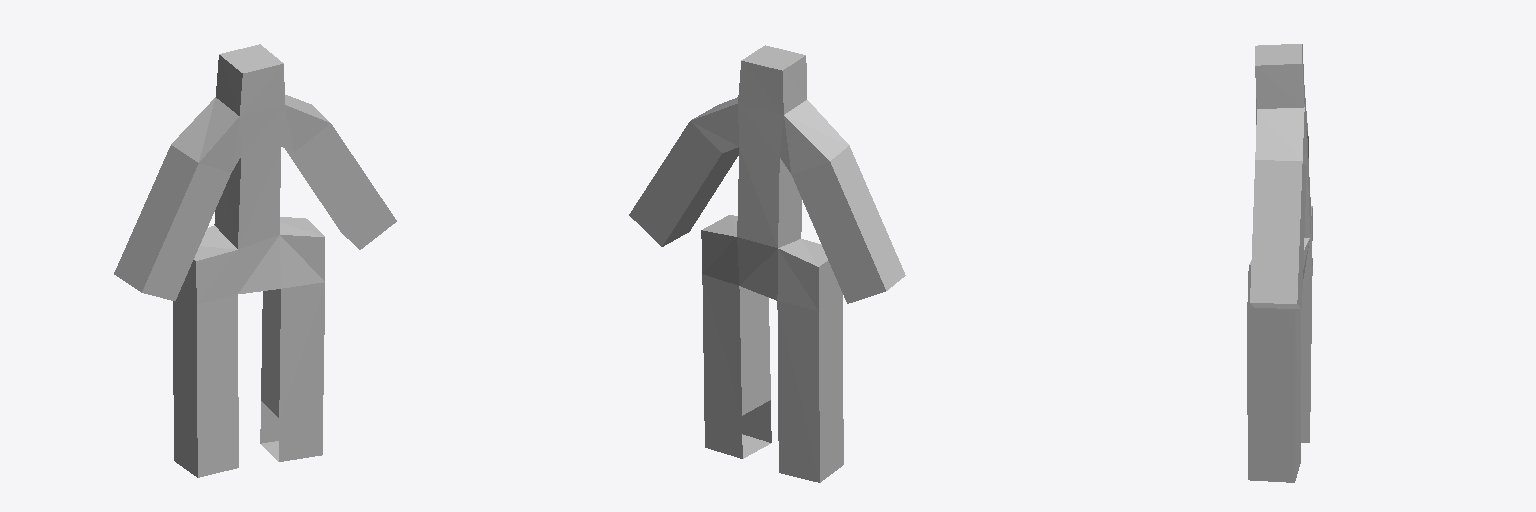
File: cuboid_000025.obj
3 renders of one model, left to right at view 1: azimuth 30°, elevation 25°; view 2: azimuth 150°, elevation 25°; view 3: azimuth 270°, elevation 25°, orthographic.
Parts seen in each view (by area): view 1: Cube; view 2: Cube; view 3: Cube.
Part boxes in pixels (x1,y1,x2,y2): Cube: (114, 44, 396, 477); Cube: (629, 45, 905, 482); Cube: (1247, 44, 1312, 482).
Size of the model in its own units: 3.16 by 4.63 by 0.687.